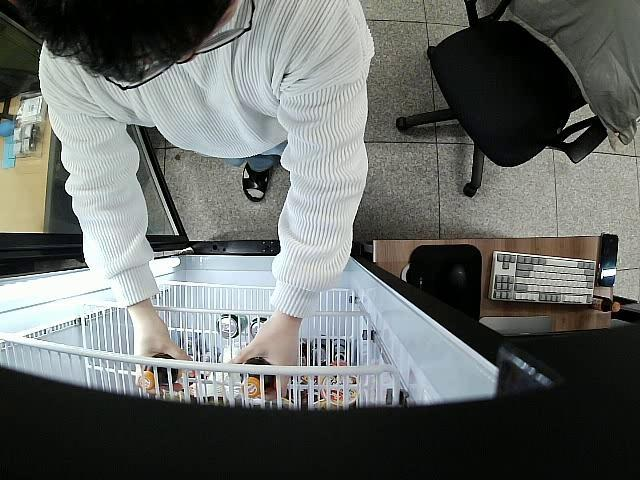17_vita500: (240, 356, 274, 400), (138, 354, 177, 390)
